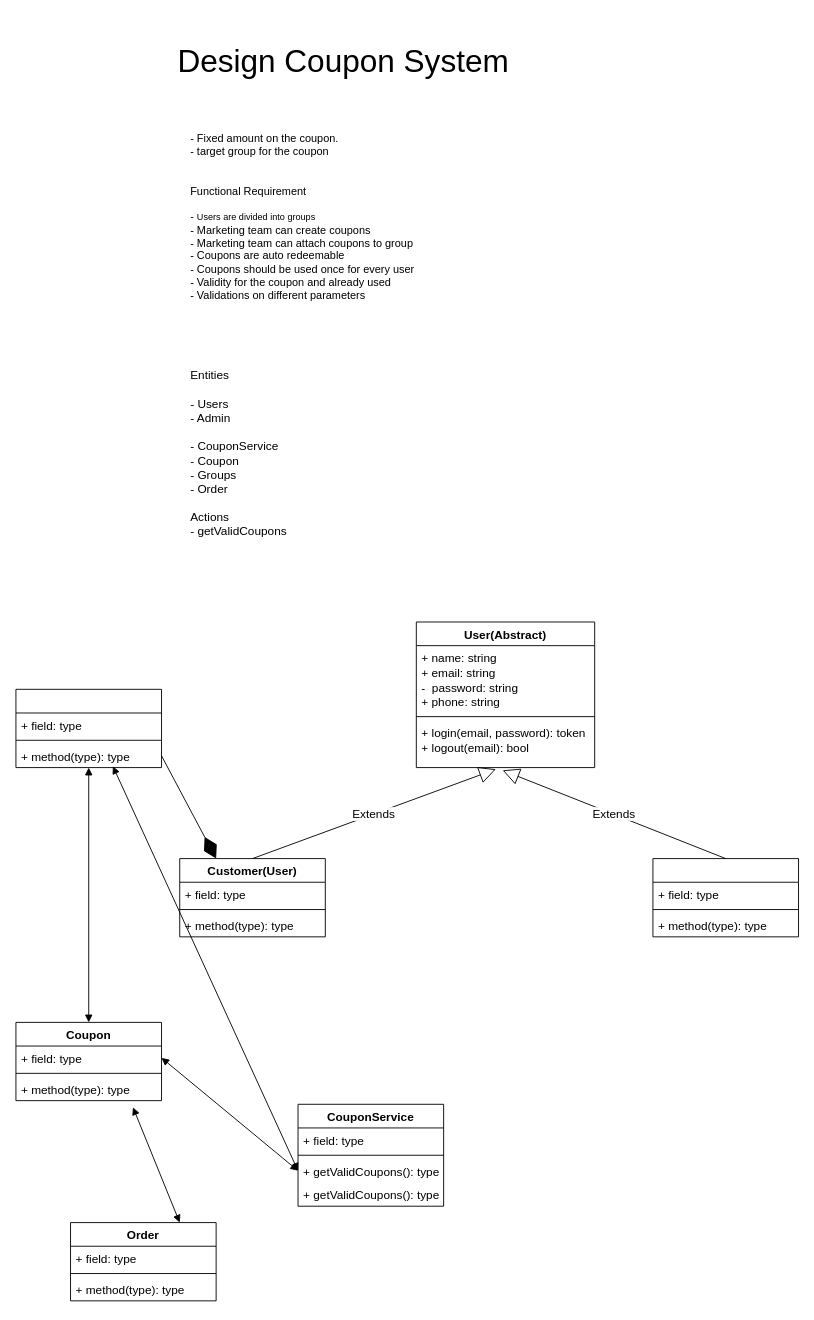
The diagram is 814 pixels wide and 1320 high, and some of its shapes have lost their labels. Each missing label, with the box of its shape:
Admin: (652, 858, 799, 937)
UserGroup: (15, 688, 162, 768)
